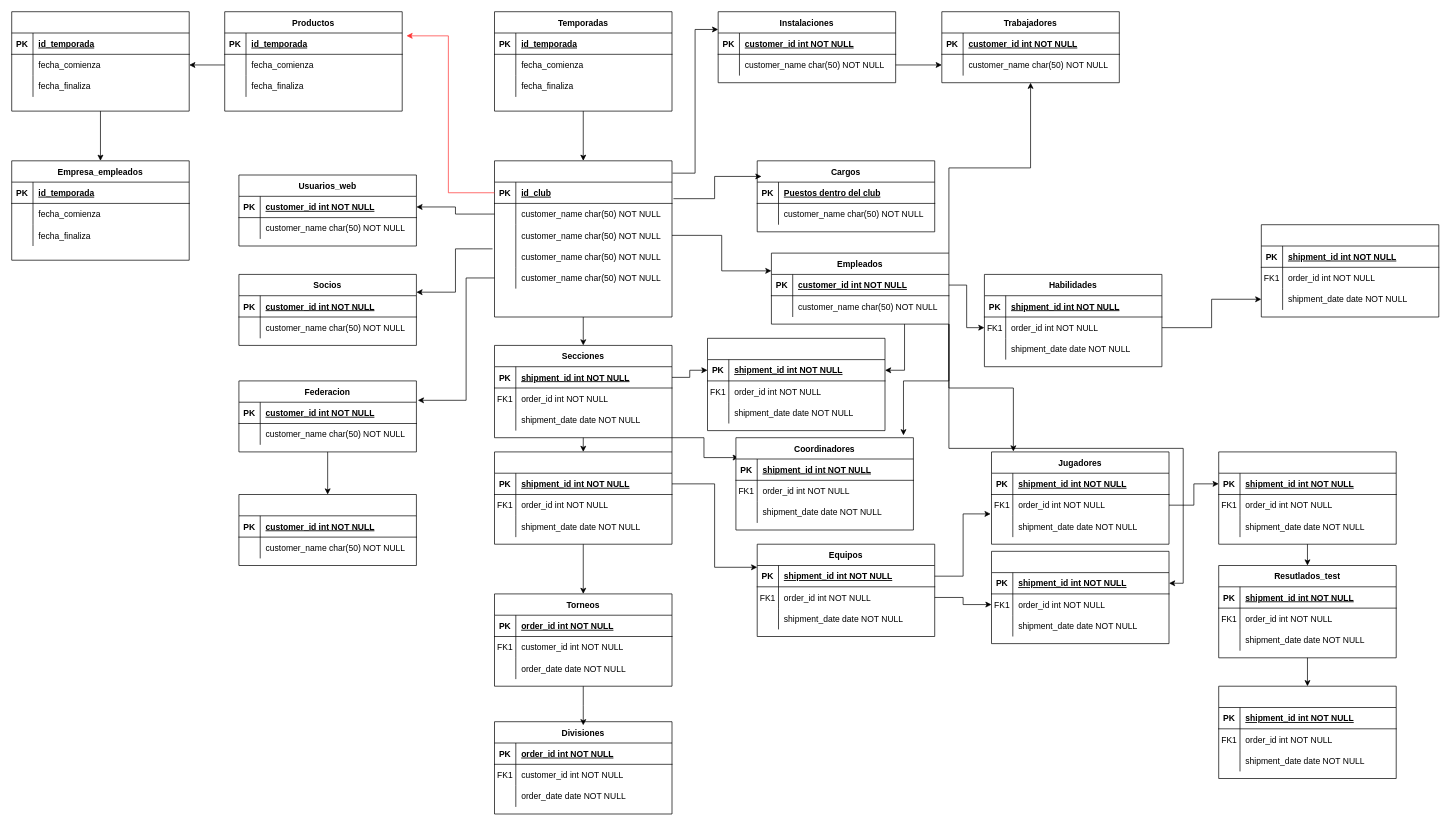
This 1451x826 diagram has some shape labels left out. Each missing label, with the box of its shape:
Categorias: (494, 451, 672, 544)
Clubes: (494, 160, 672, 317)
Comunidad_autonoma: (238, 494, 416, 566)
Directores: (707, 338, 885, 431)
Empresa_productos: (11, 11, 189, 111)
Entrenadores: (991, 551, 1169, 644)
Estilo_juego: (1261, 224, 1439, 317)
Preparacion_fisica: (1218, 451, 1396, 544)
Test: (1218, 686, 1396, 779)
